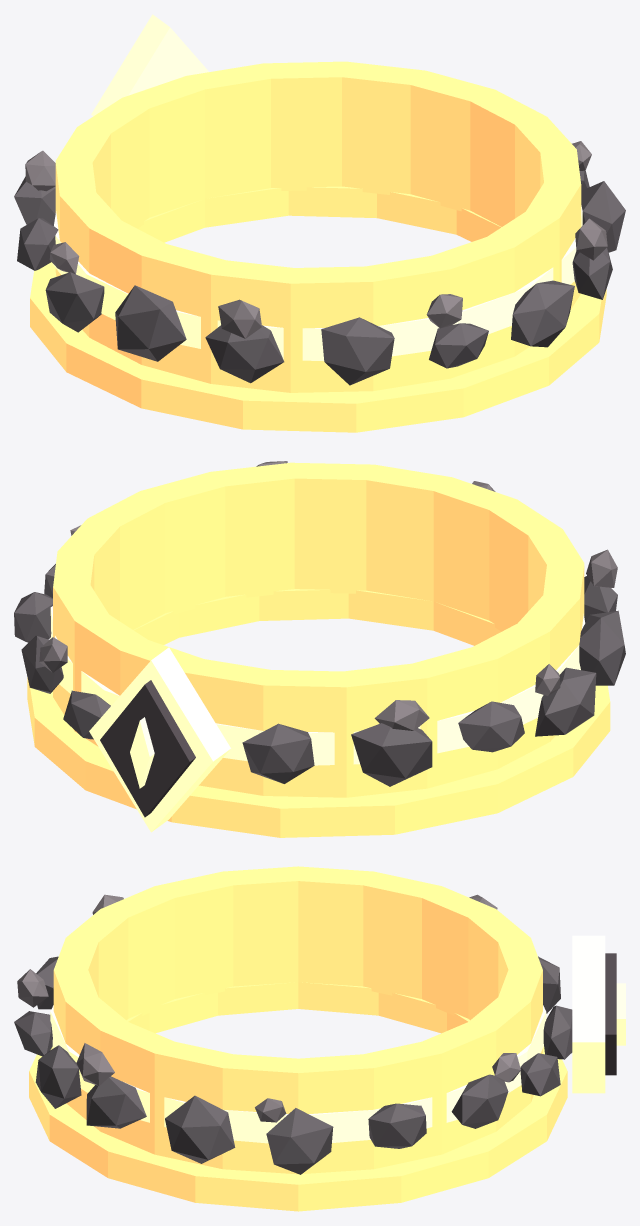
File: LavaBand.fbx
3 views of the same model, one above another, from view 1: azimuth 30°, elevation 25°; view 2: azimuth 150°, elevation 25°; view 3: azimuth 270°, elevation 25° (orthographic). The views are drawn at different scales.
Parts seen in each view (by area): view 1: LavaBand.Lava, LavaBand.Rocks, LavaBand.HotCore, LavaBand.RockChips; view 2: LavaBand.Lava, LavaBand.Rocks, LavaBand.HotCore, LavaBand.Emblem, LavaBand.RockChips; view 3: LavaBand.Lava, LavaBand.Rocks, LavaBand.HotCore, LavaBand.RockChips, LavaBand.Emblem.
Part boxes in pixels (box(x1,y1,x2,y2)): LavaBand.Lava: box(30, 61, 606, 432); LavaBand.Rocks: box(14, 170, 625, 385); LavaBand.HotCore: box(52, 14, 582, 361); LavaBand.RockChips: box(25, 141, 607, 338); LavaBand.Lava: box(27, 462, 610, 837); LavaBand.Rocks: box(14, 564, 625, 786); LavaBand.HotCore: box(50, 606, 585, 832); LavaBand.Emblem: box(100, 680, 195, 817); LavaBand.RockChips: box(39, 461, 617, 730); LavaBand.Lava: box(29, 866, 567, 1211); LavaBand.Rocks: box(14, 956, 572, 1174); LavaBand.HotCore: box(50, 935, 625, 1143); LavaBand.RockChips: box(17, 894, 520, 1122); LavaBand.Emblem: box(605, 953, 616, 1075).
Size of the model in its own units: 1.72 by 0.545 by 1.86.
